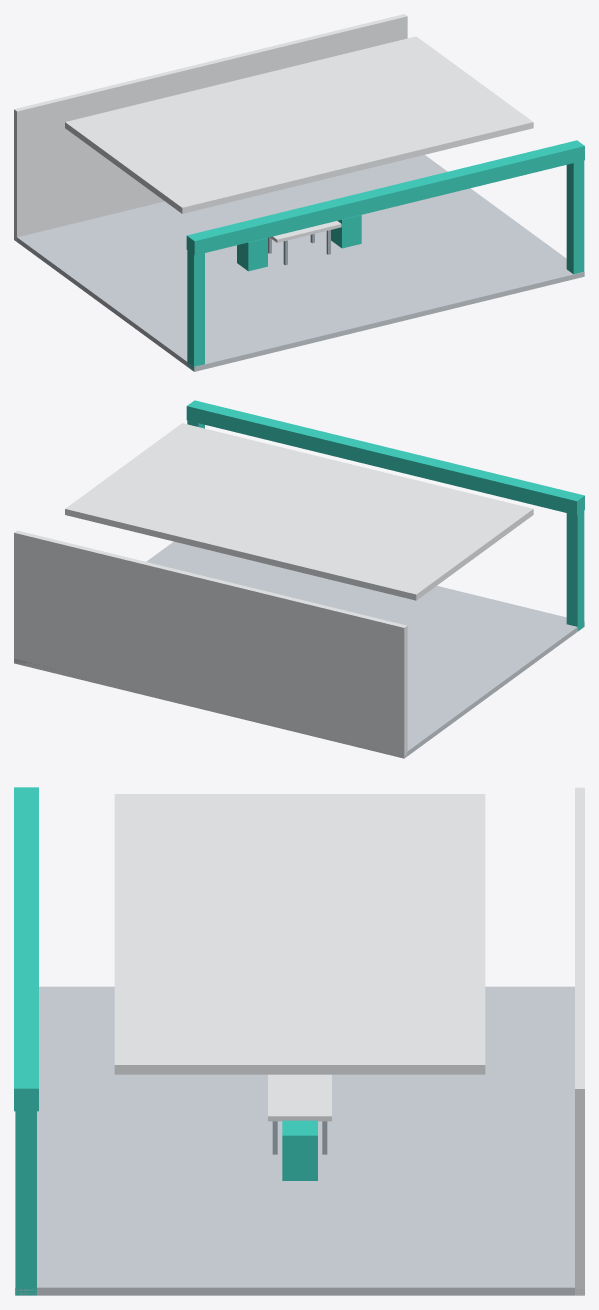
3 views of the same model, one above another, from view 1: azimuth 30°, elevation 25°; view 2: azimuth 150°, elevation 25°; view 3: azimuth 270°, elevation 25° (orthographic). The views are drawn at different scales.
Visible parts, largest first — view 1: Exhibition Booth Concept; view 2: Exhibition Booth Concept; view 3: Exhibition Booth Concept.
Part boxes in pixels (x1,y1,x2,y2): Exhibition Booth Concept: (14,14,584,371); Exhibition Booth Concept: (14,400,584,758); Exhibition Booth Concept: (14,787,584,1295).
Bounding box in the file's own units: 10 × 3.34 × 8.01.
